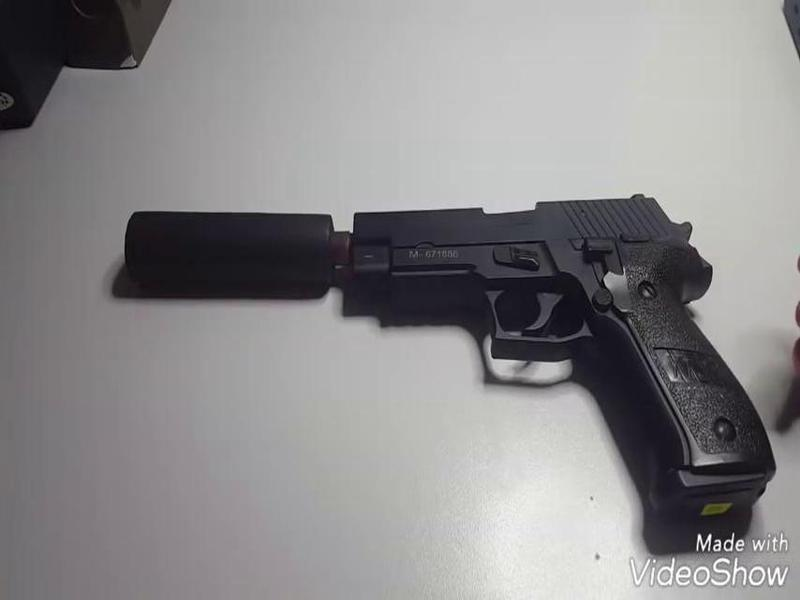Pistola: (107, 158, 785, 485)
